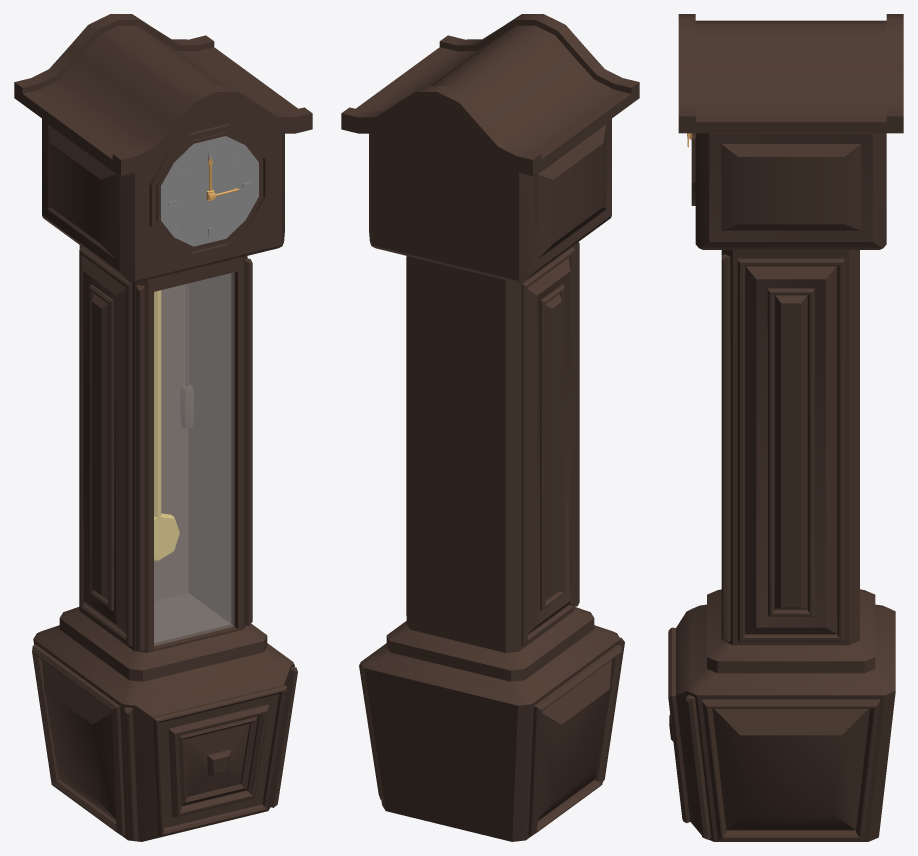
File: Clocks.fbx
The picture shows the model from 3 angles, left to right: view 1: azimuth 30°, elevation 25°; view 2: azimuth 150°, elevation 25°; view 3: azimuth 270°, elevation 25°; orthographic projection. The views are drawn at different scales.
Parts seen in each view (by area): view 1: Clocks; view 2: Clocks; view 3: Clocks.
Boxes of the visible parts, left/top/right/bottom form: Clocks: left=14, top=14, right=312, bottom=841; Clocks: left=341, top=14, right=639, bottom=841; Clocks: left=668, top=14, right=903, bottom=841.
Size of the model in its own units: 148 by 547 by 149.
